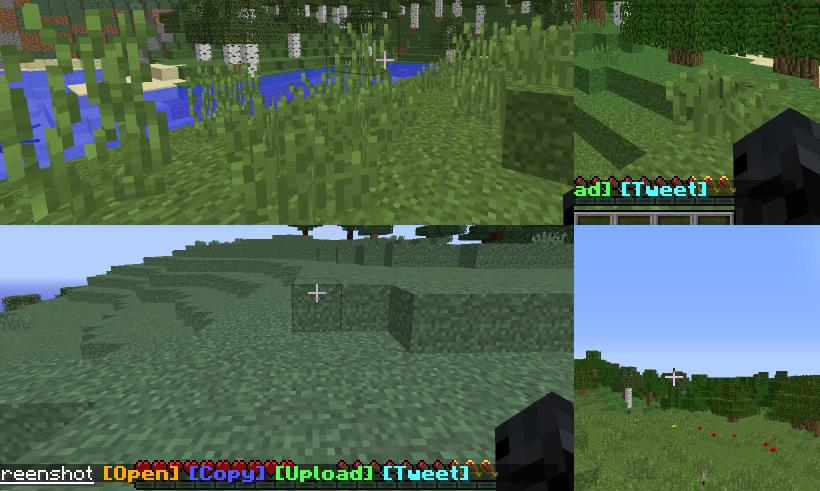minecraft-blocks: (772, 56, 818, 84), (668, 49, 703, 68), (241, 44, 259, 80), (589, 1, 606, 31), (614, 1, 629, 30), (224, 45, 242, 65), (288, 34, 302, 59), (575, 1, 585, 33), (197, 43, 213, 62), (806, 418, 820, 439), (477, 7, 485, 39), (411, 4, 419, 29), (454, 1, 463, 18), (626, 389, 633, 409), (333, 7, 340, 26), (792, 423, 804, 433), (436, 1, 443, 18), (320, 8, 327, 24), (523, 2, 531, 15), (304, 5, 311, 19), (341, 7, 348, 21), (647, 393, 653, 407), (348, 232, 354, 241), (656, 397, 662, 406), (592, 369, 597, 379), (371, 235, 379, 240), (580, 389, 585, 397), (304, 231, 309, 237)
